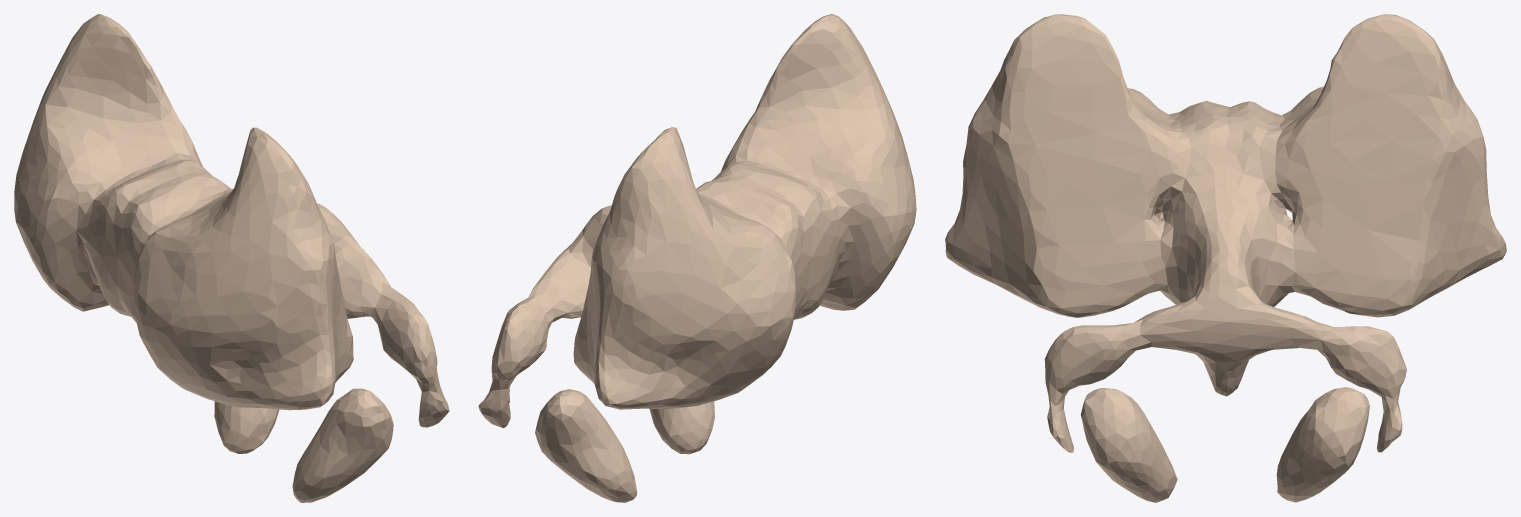
3 views of the same model, side by side, from view 1: azimuth 30°, elevation 25°; view 2: azimuth 150°, elevation 25°; view 3: azimuth 270°, elevation 25° (orthographic). The views are drawn at different scales.
Visible parts, largest first — view 1: 1117.obj; view 2: 1117.obj; view 3: 1117.obj.
Boxes of the visible parts, x1=… form: 1117.obj: x1=14, y1=14, x2=449, y2=502; 1117.obj: x1=478, y1=14, x2=916, y2=502; 1117.obj: x1=945, y1=14, x2=1506, y2=502.
Bounding box in the file's own units: 1983 × 2824 × 3279.
